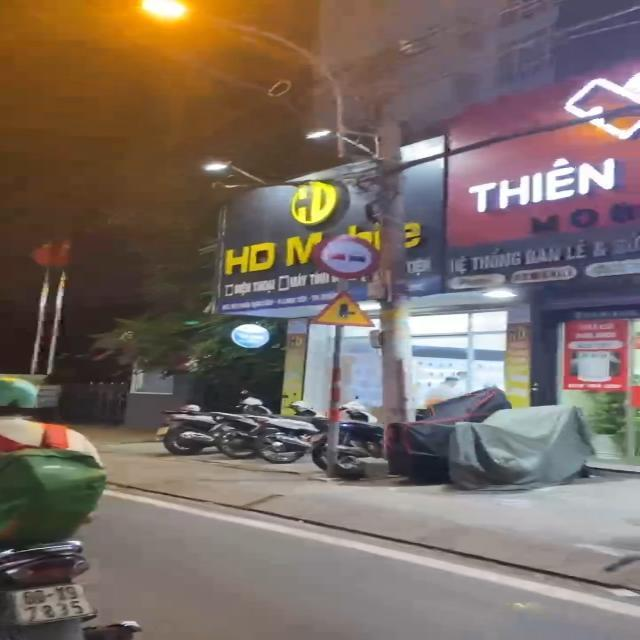125-cam-vuot: (313, 235, 380, 278)
207-giao-nhau-voi-duong-khong-uu-tien: (313, 292, 374, 330)
